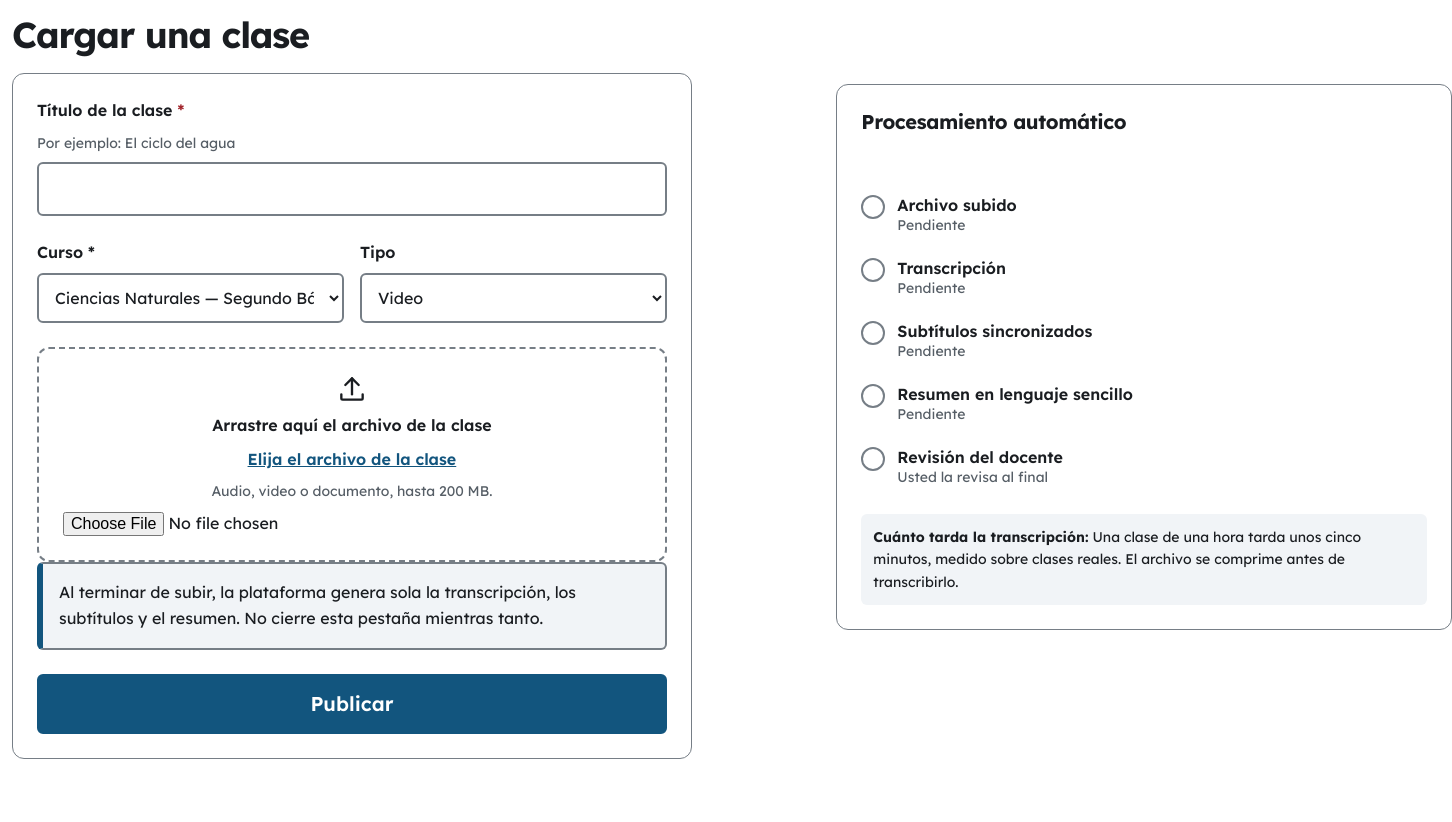
Test case: Carga de una clase › no publica sin título
Expected: the field labelled "Título de la clase *" is shown, [37,162,667,216]
Click the button "Publicar".
click(352, 704)  # box [37,674,667,734]
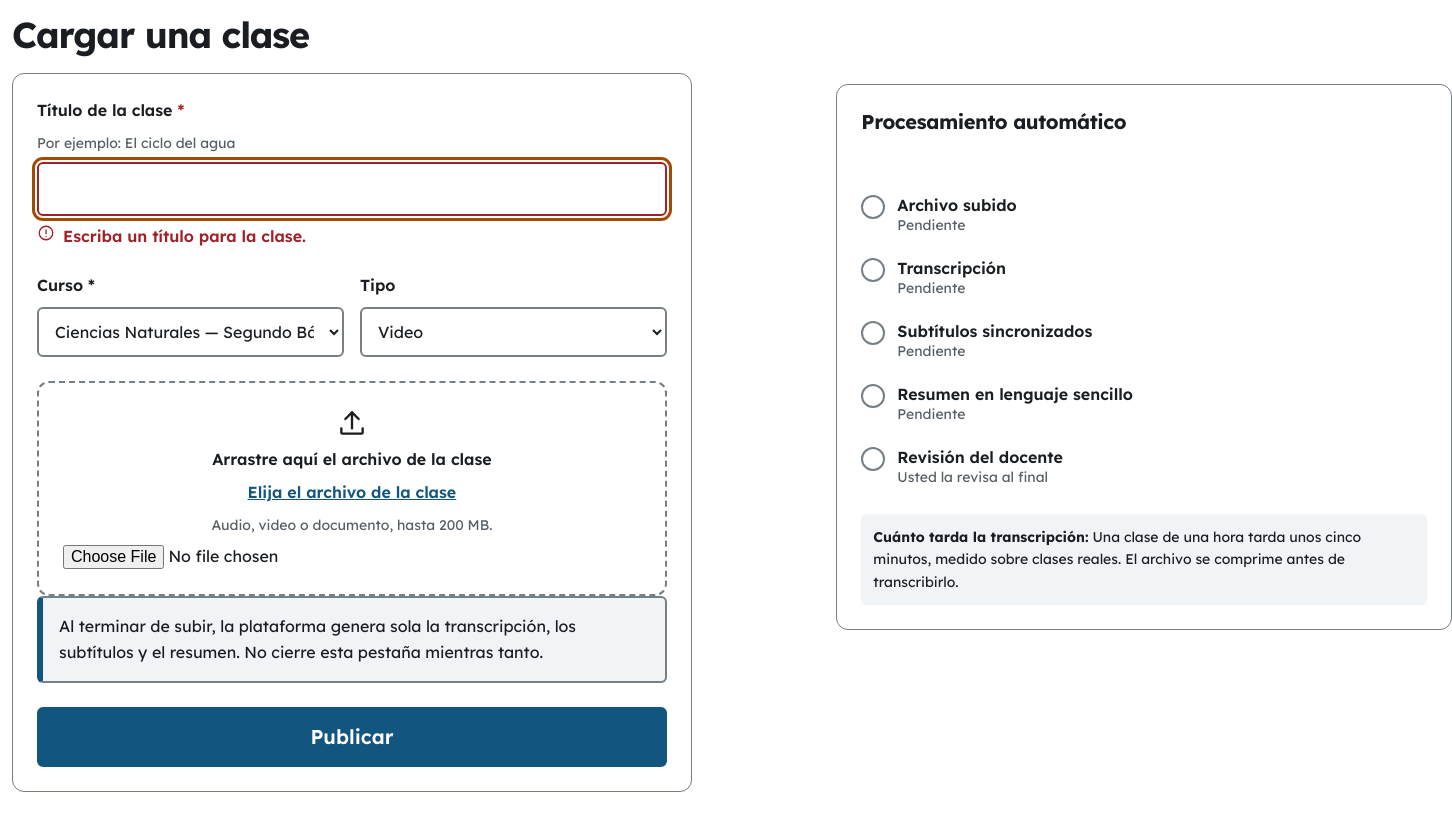
Now the text "Escriba un título para la clase." is shown, box [37,224,306,246]
